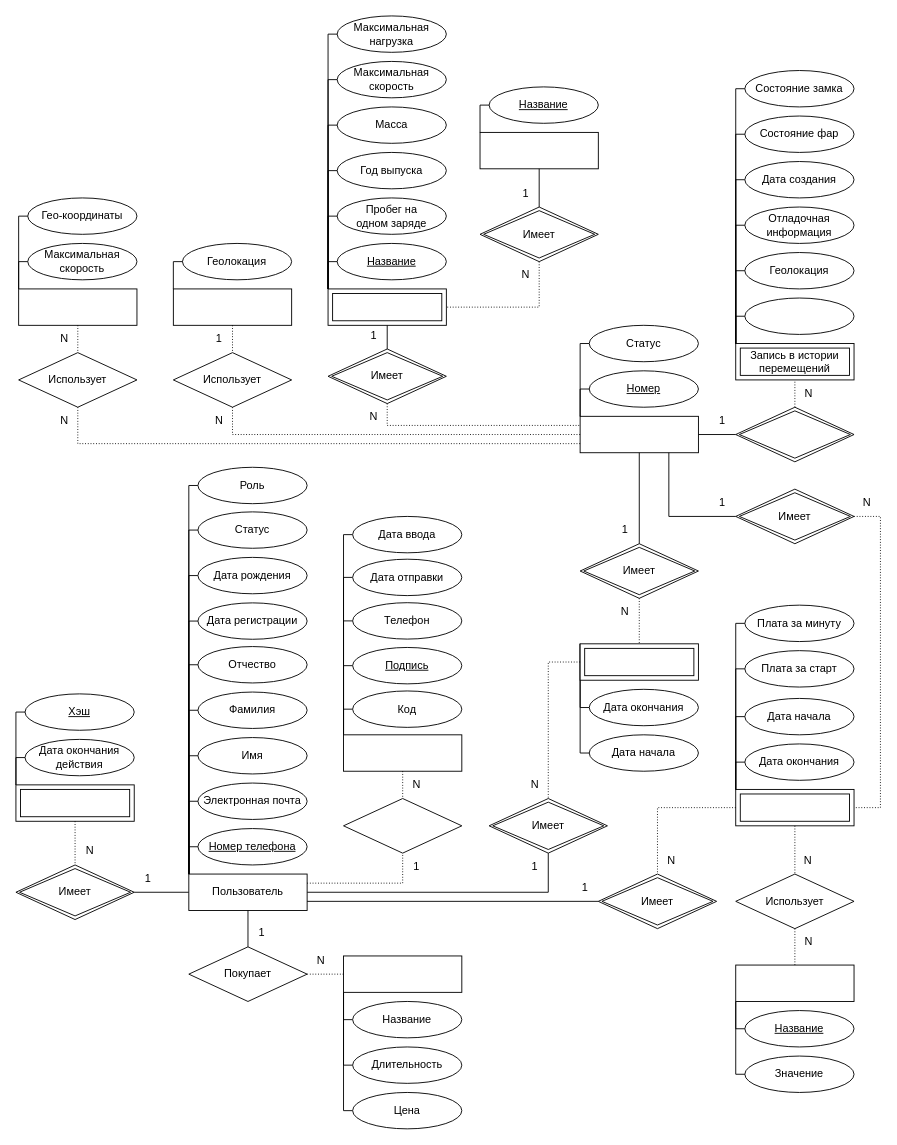
Image size: 897x1145. Some labels were removed from this diagram. Each missing label, with the centre of its shape:
Аренда: (794,807)
Бронирование: (638,661)
Зона ограничения скорости: (77,306)
Модель: (386,306)
Настройка: (794,982)
Парковка: (232,306)
Подписка: (402,973)
Получает: (402,825)
Производитель: (538,150)
СМС с кодом: (402,752)
Создает: (794,434)
Токен авторизации: (74,802)
Уровень заряда: (799,315)
Электросамокат: (638,434)
